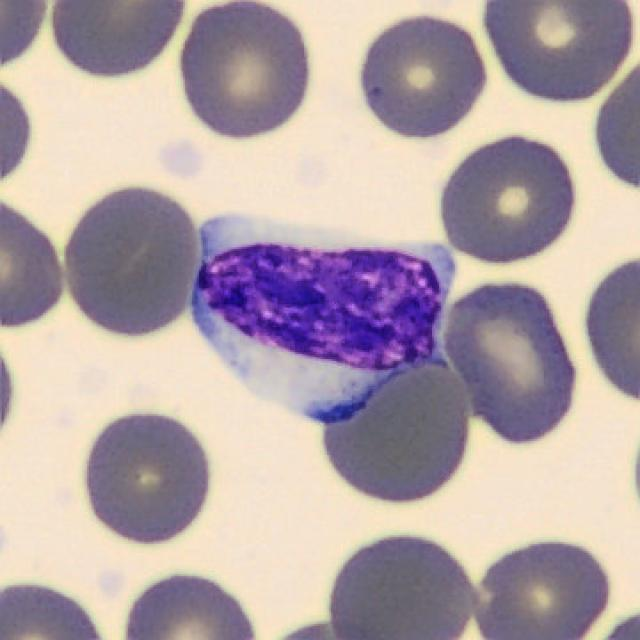Linfocito: (190, 217, 453, 421)
